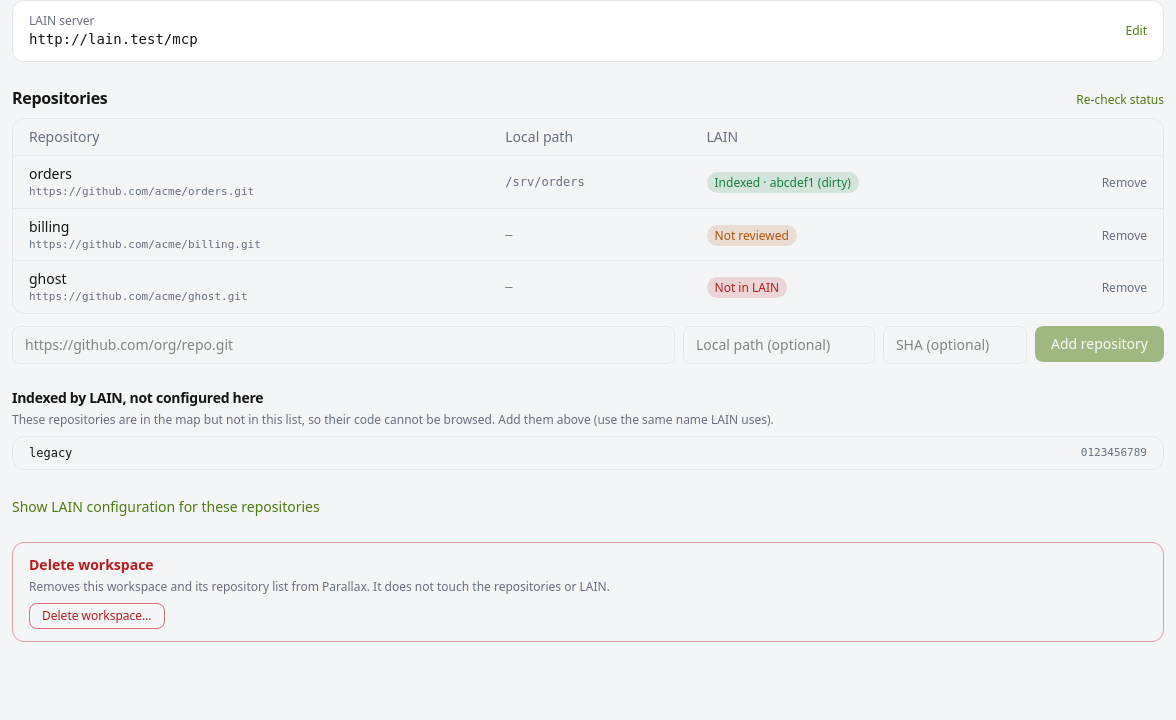
Scenario: RepoManager — add and remove › removal asks first: "no" cancels, "yes" deletes that repo from this workspace
The width and height of the screenshot is (1176, 720).
Expected: the text "Indexed · abcdef1 (dirty)" is shown, [706, 172, 859, 193]
Click the button with aria-label "Remove ghost" at (1124, 288), box [1102, 280, 1147, 296]
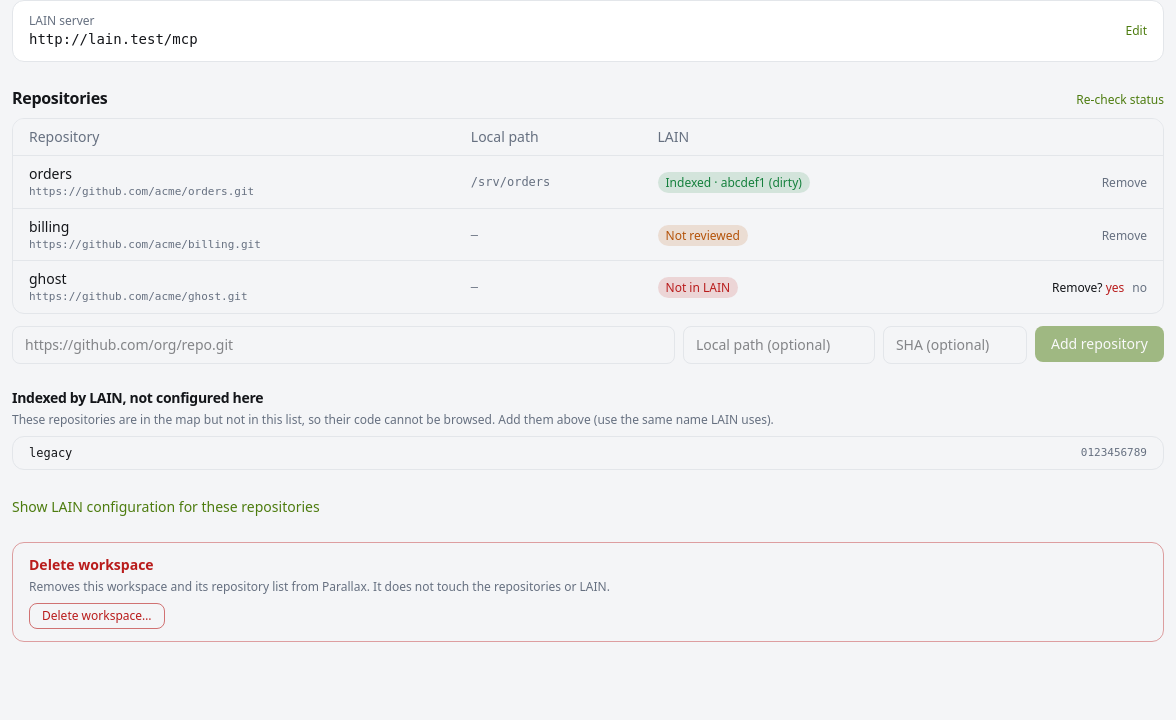
Now the text "Remove? yes no" is shown, box [1052, 279, 1147, 296]
Click the button "no" at (1140, 288), box [1132, 280, 1147, 296]
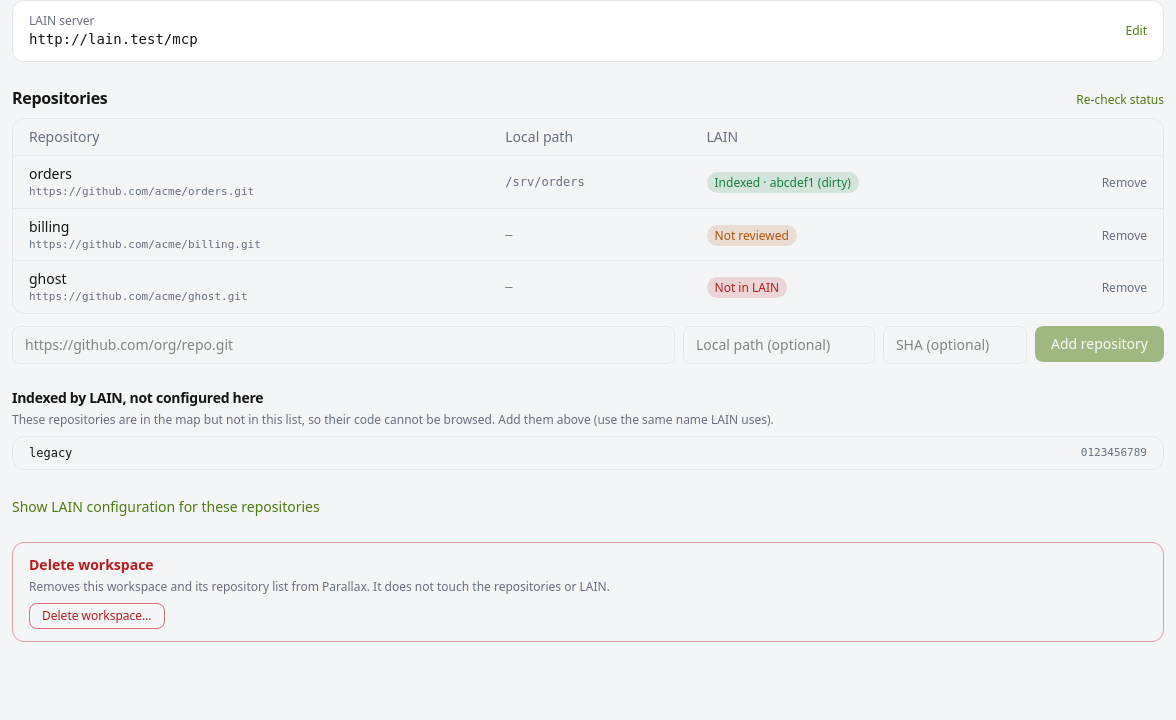
Now the text "Remove?" is gone
Click the button with aria-label "Remove ghost" at (1124, 288), box [1102, 280, 1147, 296]
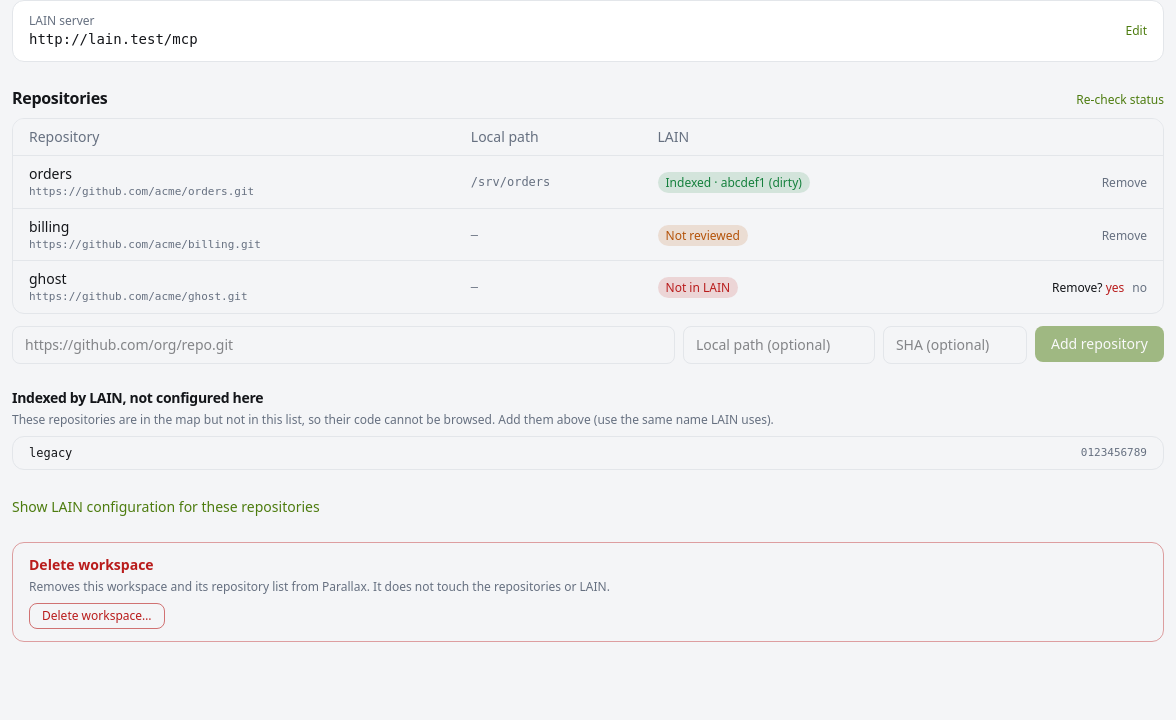
Click the button "yes" at (1115, 288), box [1106, 280, 1124, 296]
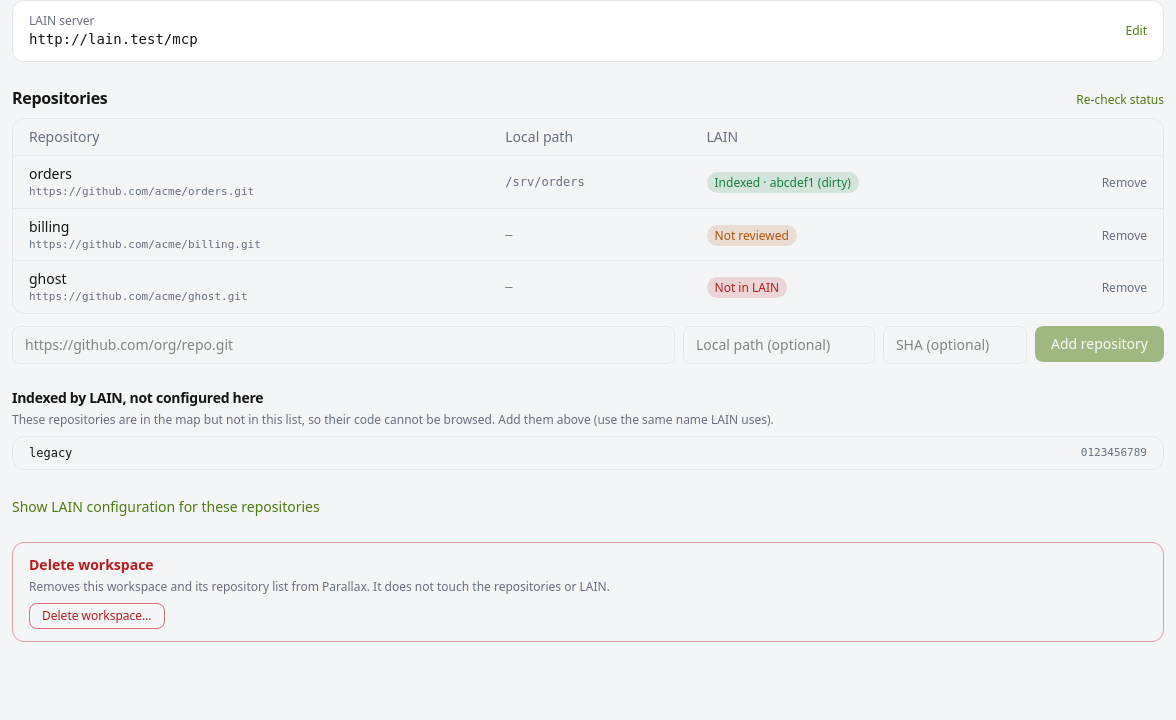
Now the text "Remove?" is gone
